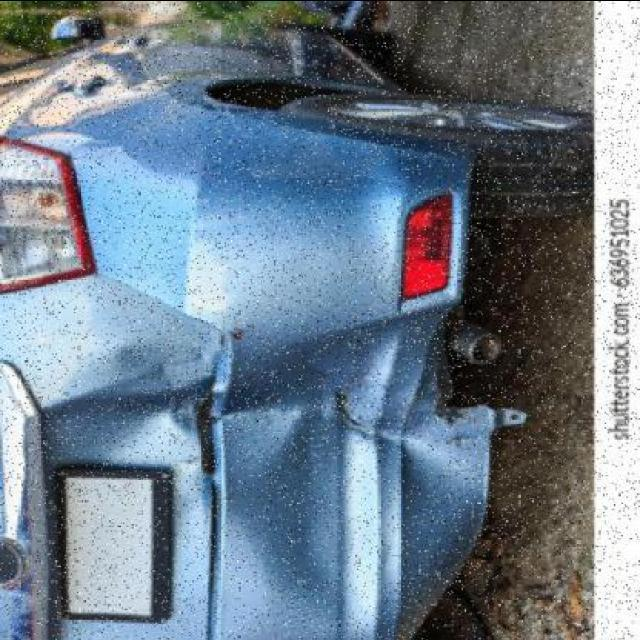rear-bumper-dent: (189, 100, 493, 640)
